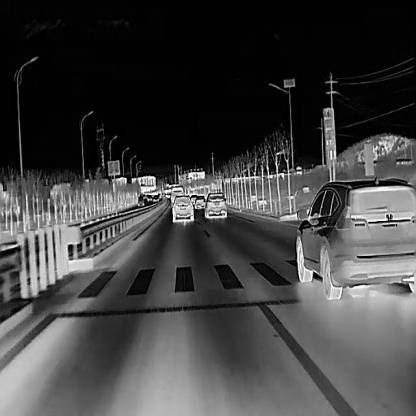bus: (170, 184, 185, 206)
car: (294, 173, 415, 301), (168, 194, 193, 223), (202, 192, 227, 218), (194, 195, 206, 208), (137, 195, 144, 205), (146, 193, 152, 201), (153, 194, 158, 201)
